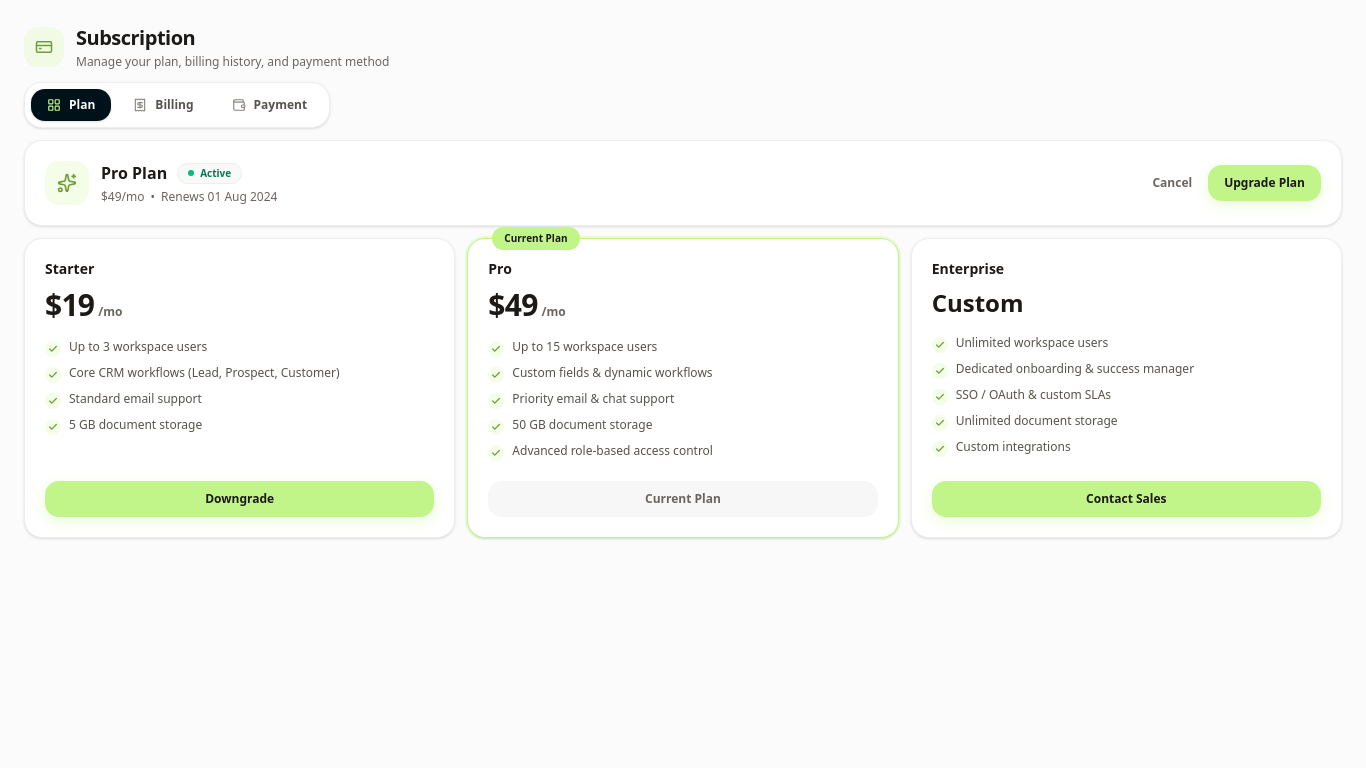
Test: SubscriptionPage — Plan tab › keep plan closes the cancel dialog without changing status
The width and height of the screenshot is (1366, 768).
Click the button with aria-label "Cancel subscription": point(1172, 183) [1152,175,1192,191]
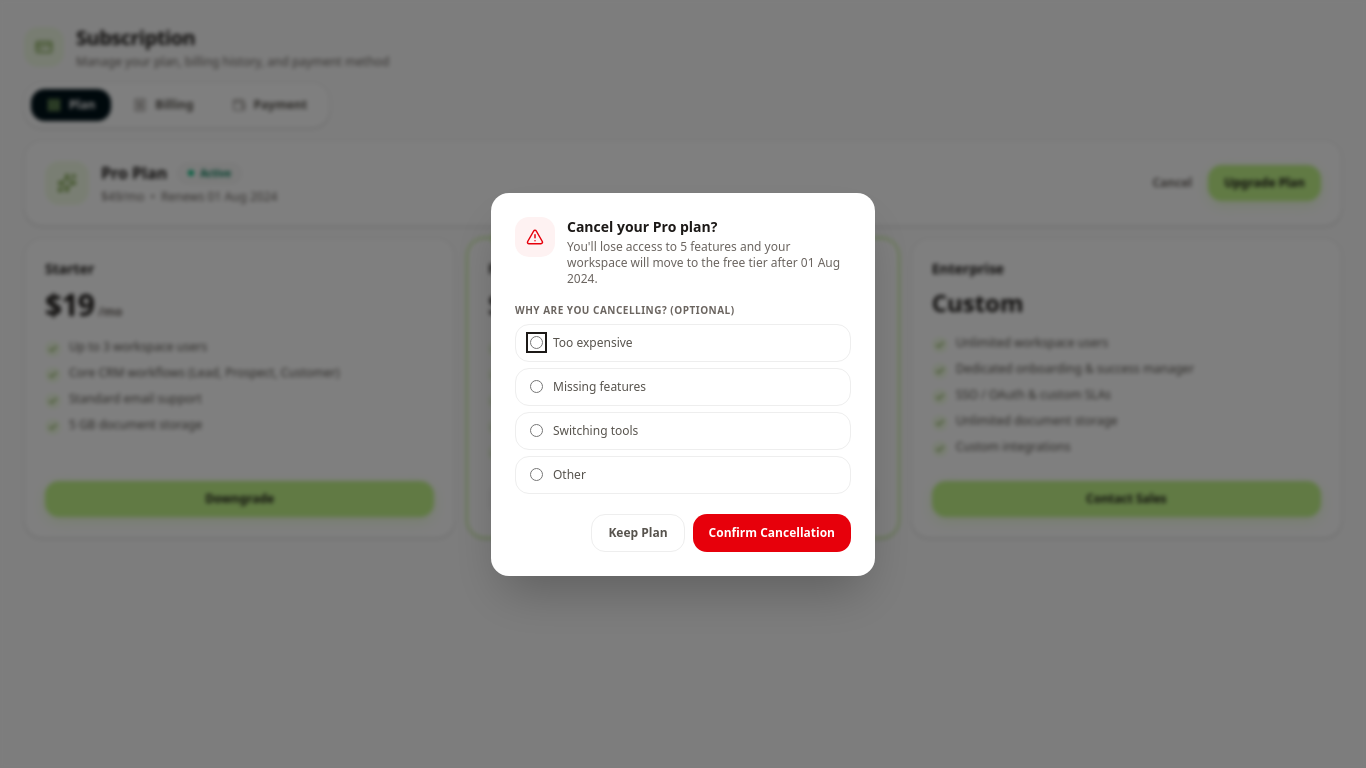
Click the button with aria-label "Keep current plan": point(638, 532) [591,514,685,552]
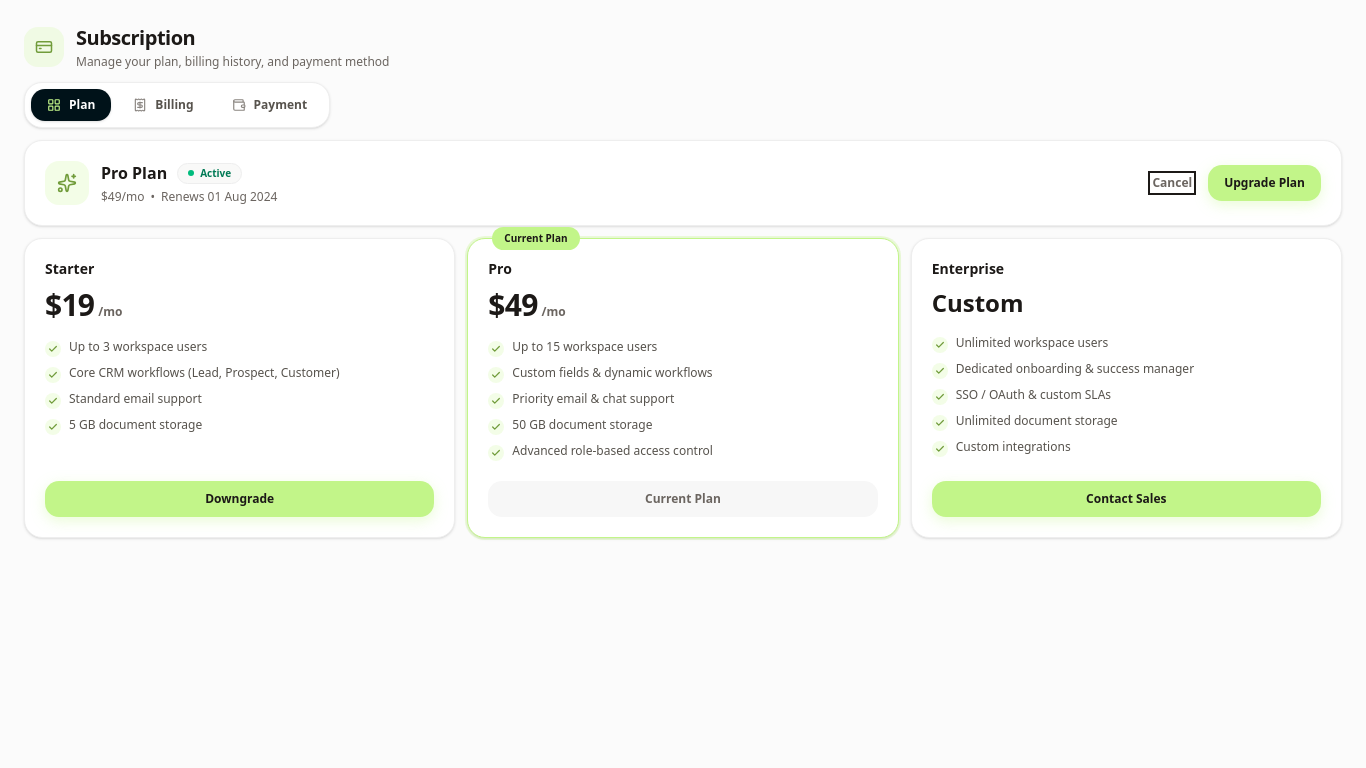
Expected: the text "Active" is shown, [177,162,242,184]
Expected: the dialog is gone
